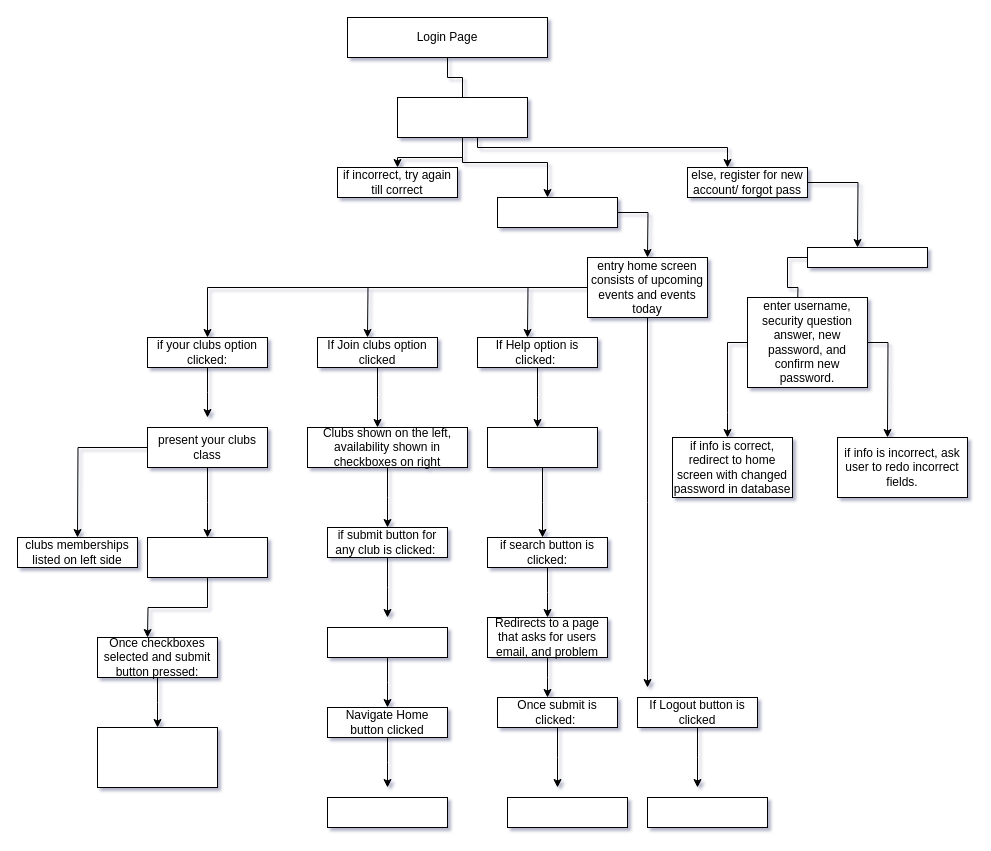
Some shapes in this 991 by 851 pixel diagram are drawn without their labels. The shapes that lost their labels are listed below. From the top down, each one's centre as x and y in pixels, then its label:
(x=462, y=117): Entering username and password in Jtextbox.
(x=557, y=212): if correct move on to Home Screen
(x=867, y=257): if forgot password:
(x=542, y=447): Leads to an FAQ page made with JLabels
(x=207, y=557): JCheckBoxes on the right side for RSVP to meetings
(x=387, y=642): redirect to success screen
(x=157, y=757): Return to home screen with added attending events on right side
(x=387, y=812): Return to Home Screen
(x=567, y=812): returns to Home Screen
(x=707, y=812): Returns to Login Screen
